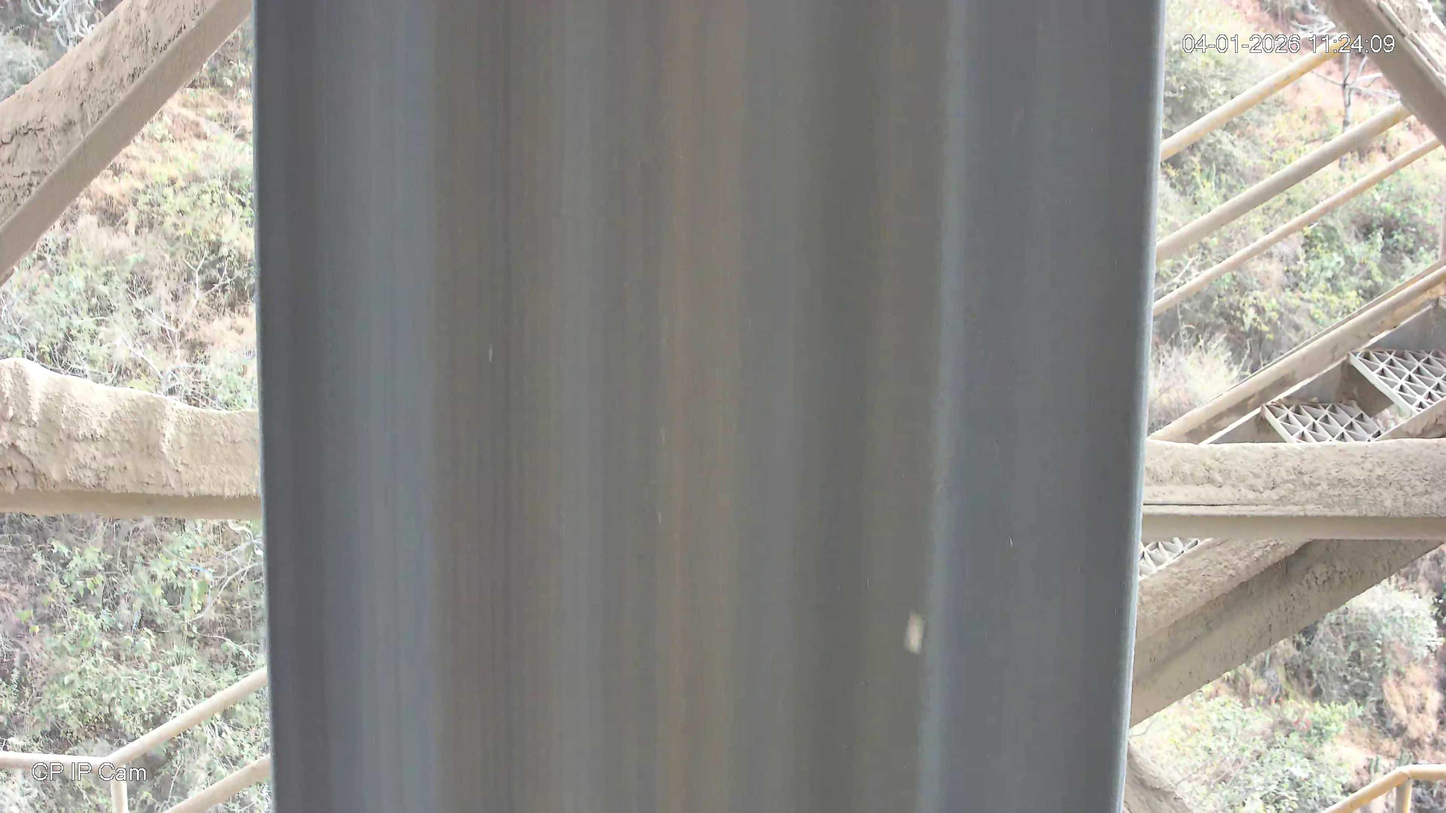belt_roi: (250, 1, 1167, 813)
